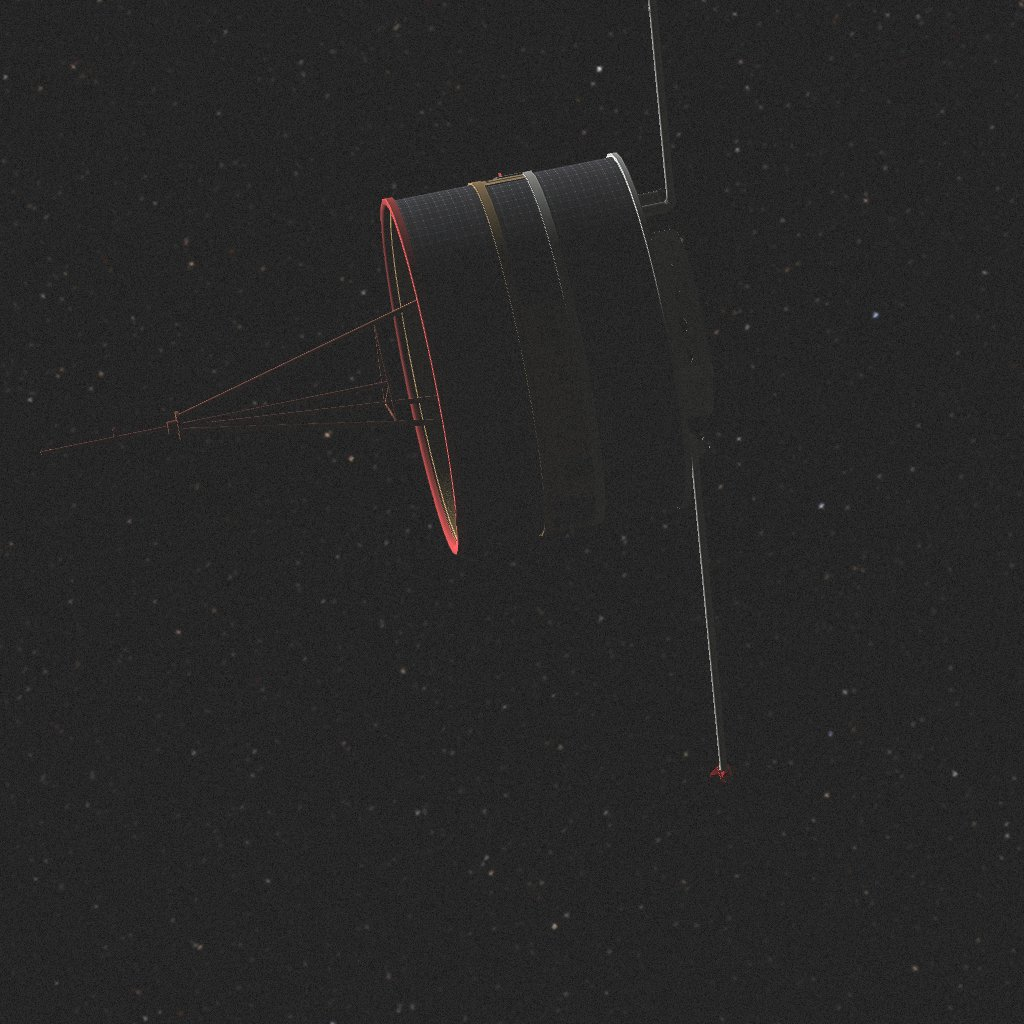double_star: (41, 0, 738, 783)
